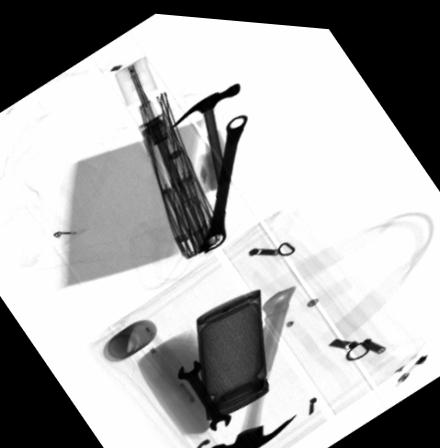Hammer: (206, 281, 297, 448), (168, 78, 241, 185)
Wrench: (201, 110, 248, 249), (175, 356, 232, 427)
